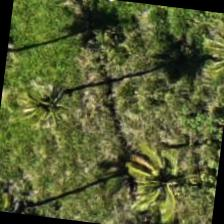Kelapa_Sawit: (0, 58, 100, 158), (111, 136, 213, 223)
